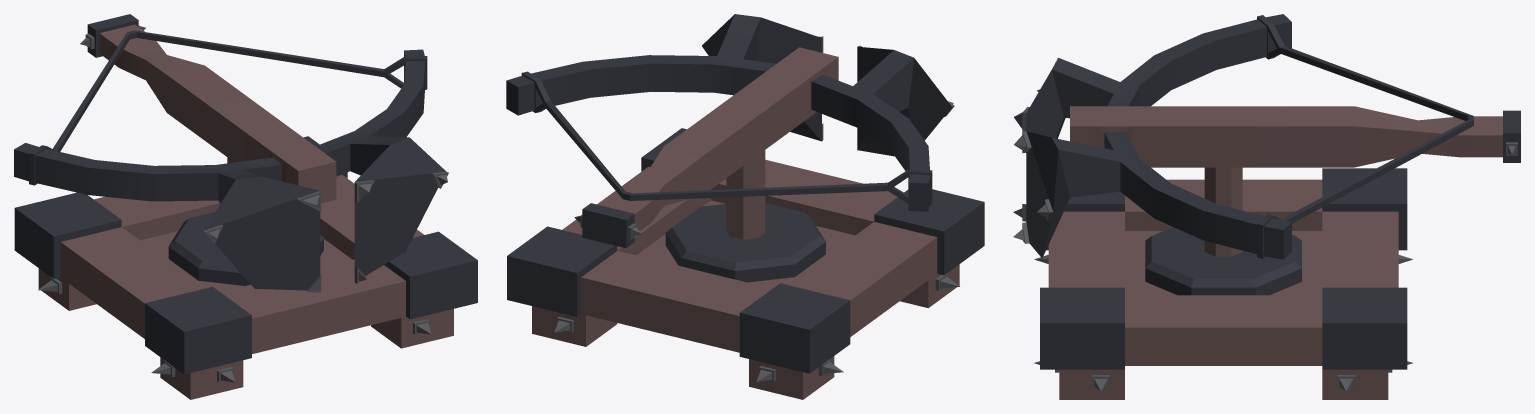
The model's file is Ballista_3.fbx.
3 renders of one model, left to right at view 1: azimuth 30°, elevation 25°; view 2: azimuth 150°, elevation 25°; view 3: azimuth 270°, elevation 25°, orthographic. The views are drawn at different scales.
Parts seen in each view (by area): view 1: Ballista, Base; view 2: Ballista, Base; view 3: Ballista, Base.
Boxes of the visible parts, <box> form: Ballista: <box>14,14,448,292</box>; Base: <box>14,136,477,399</box>; Ballista: <box>506,14,954,282</box>; Base: <box>507,128,984,399</box>; Ballista: <box>1013,14,1520,295</box>; Base: <box>1034,168,1412,399</box>.
Size of the model in its own units: 2.41 by 1.18 by 2.39.
